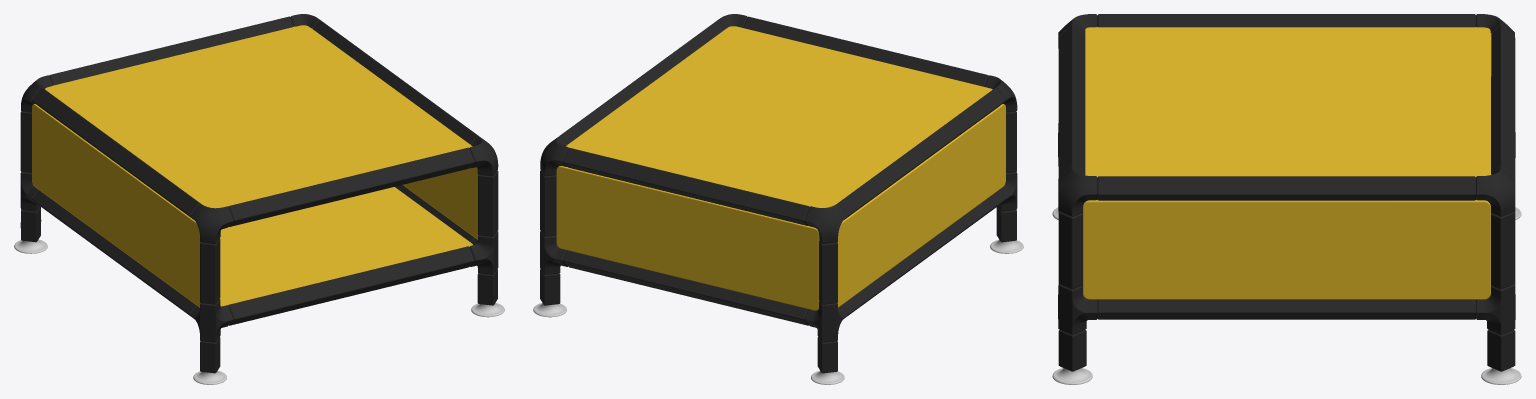
The picture shows the model from 3 angles, left to right: view 1: azimuth 30°, elevation 25°; view 2: azimuth 150°, elevation 25°; view 3: azimuth 270°, elevation 25°; orthographic projection. The views are drawn at different scales.
Visible parts, largest first — view 1: 329x374x79; view 2: 329x374x79; view 3: 329x374x79.
Boxes of the visible parts, x1,y1,x2,y2 form: 329x374x79: [14, 14, 504, 384]; 329x374x79: [533, 14, 1023, 384]; 329x374x79: [1052, 14, 1521, 384].
Bounding box in the file's own units: 0.4189 × 0.2183 × 0.4632.
